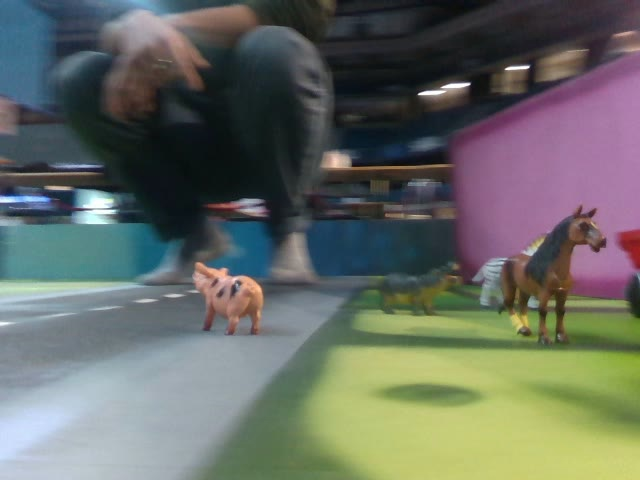toy: (183, 255, 272, 338)
